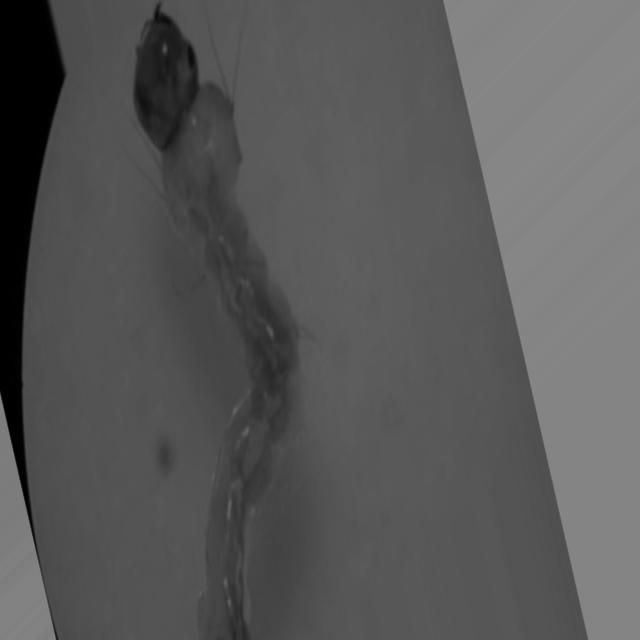larvas: (131, 16, 294, 640)
